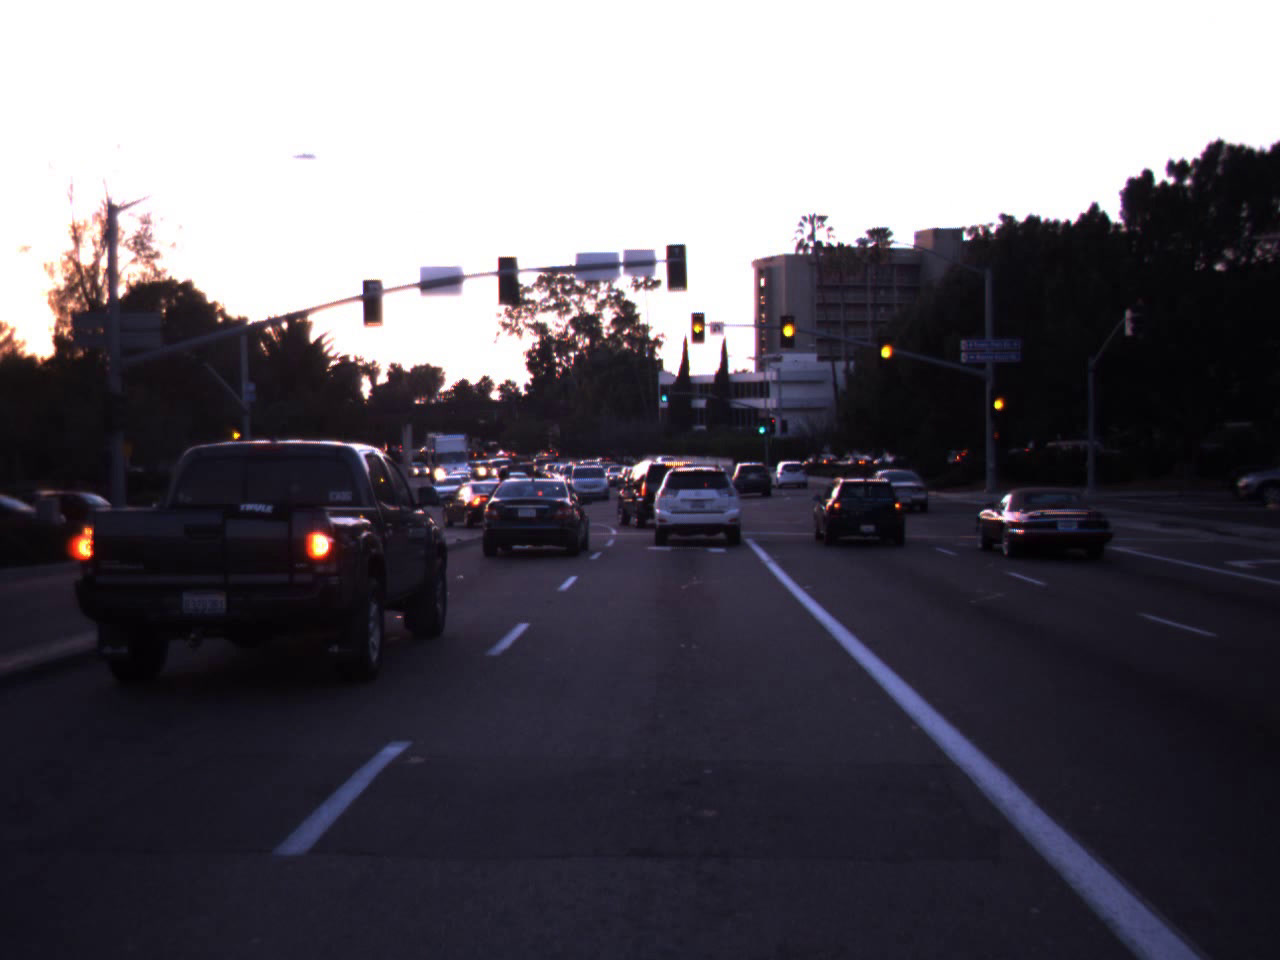go: (756, 410, 768, 435), (658, 383, 670, 403)
warning: (872, 321, 902, 375), (775, 311, 802, 342), (988, 387, 1009, 418), (687, 314, 708, 341)
